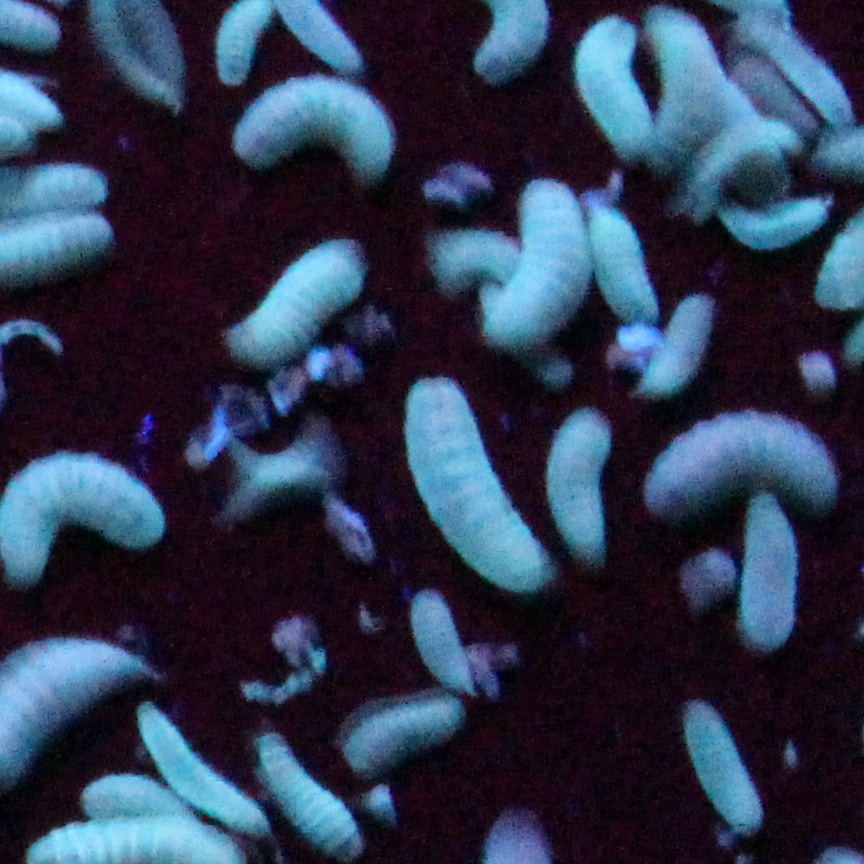larve: (389, 368, 551, 608), (633, 400, 851, 523), (215, 220, 372, 381), (125, 698, 278, 842), (479, 156, 587, 353), (220, 69, 410, 174), (713, 484, 812, 651), (328, 674, 472, 777), (680, 690, 774, 836), (393, 584, 502, 704), (582, 200, 664, 323), (634, 294, 716, 405), (713, 195, 843, 259)
